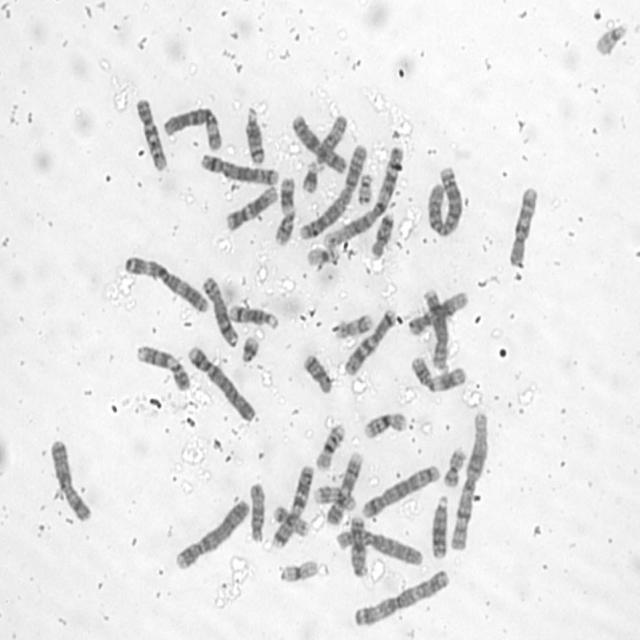A1: (319, 142, 404, 248), (448, 406, 491, 552)
A2: (296, 140, 369, 241), (423, 161, 466, 239)
A3: (349, 563, 453, 629), (121, 250, 211, 314)
B4: (172, 494, 252, 572), (184, 340, 258, 424)
B5: (359, 459, 442, 519), (197, 149, 281, 186)
C10: (505, 180, 541, 268), (132, 93, 169, 173)
C11: (408, 351, 468, 394), (272, 172, 298, 247)
C12: (406, 288, 470, 336), (222, 180, 280, 232)
C6: (331, 525, 425, 567), (160, 102, 224, 152)
C7: (340, 304, 398, 378), (268, 459, 315, 549)
C8: (199, 272, 241, 348), (419, 283, 451, 373)
C9: (322, 446, 365, 526), (134, 340, 192, 392)
D13: (428, 491, 451, 560), (347, 512, 370, 579)
D14: (241, 102, 267, 166), (226, 300, 280, 330)
D15: (312, 110, 349, 170), (246, 477, 267, 544)
E16: (313, 418, 348, 472), (360, 407, 409, 440)
E17: (331, 308, 375, 341), (312, 482, 357, 512)
E18: (299, 349, 335, 395), (368, 207, 396, 259)
F19: (276, 555, 321, 584), (304, 240, 342, 268)
F20: (270, 501, 312, 537), (440, 442, 468, 488)
G21: (299, 157, 321, 195), (238, 331, 261, 363)
G22: (591, 17, 630, 57), (355, 169, 375, 206)
X: (48, 434, 94, 524), (288, 110, 348, 175)
